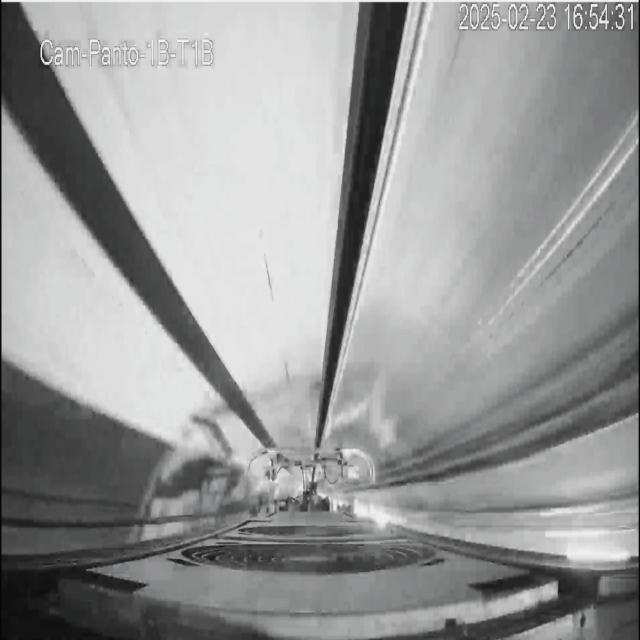Camera Stamp: (35, 29, 219, 71)
Date Stamp: (456, 3, 629, 33)
No - Spark: (249, 444, 374, 514)
